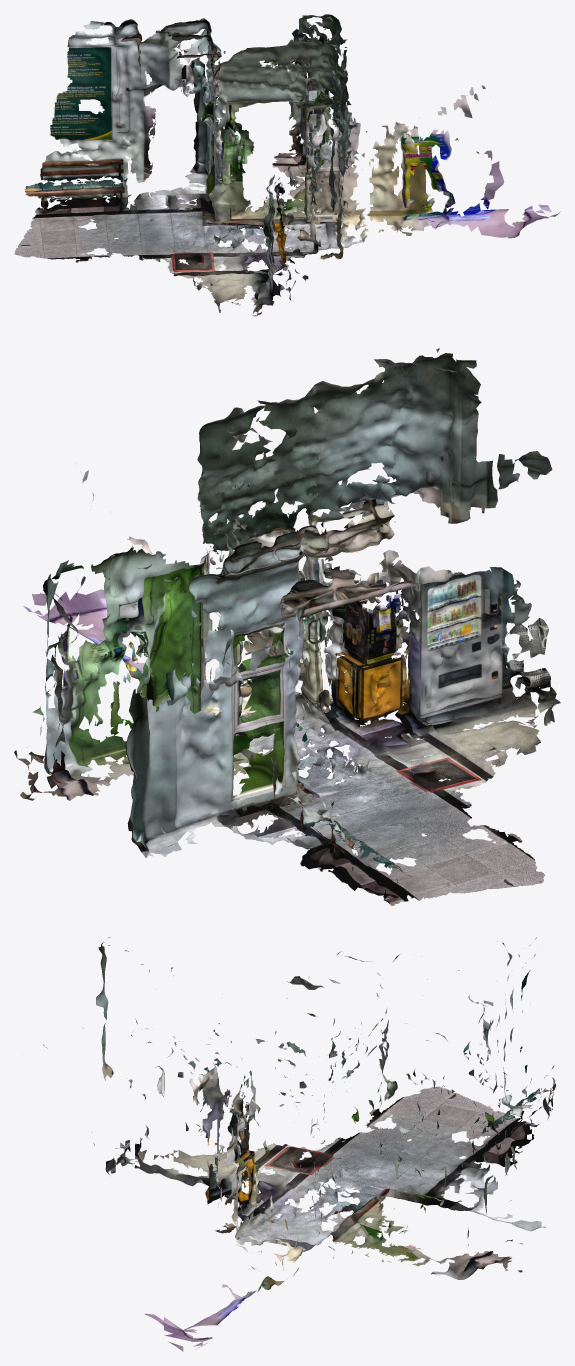
Rendered from 140524-liftFM-tex.glb.
The picture shows the model from 3 angles, top to bottom: view 1: azimuth 30°, elevation 25°; view 2: azimuth 150°, elevation 25°; view 3: azimuth 270°, elevation 25°; orthographic projection. The views are drawn at different scales.
Visible parts, largest first — view 1: Node; view 2: Node; view 3: Node.
Boxes of the visible parts, x1,y1,x2,y2 form: Node: (14, 14, 560, 316); Node: (14, 348, 560, 905); Node: (43, 937, 556, 1351).
Size of the model in its own units: 9.43 by 5.2 by 7.98.
Materials: 15 (15 with a texture image).
